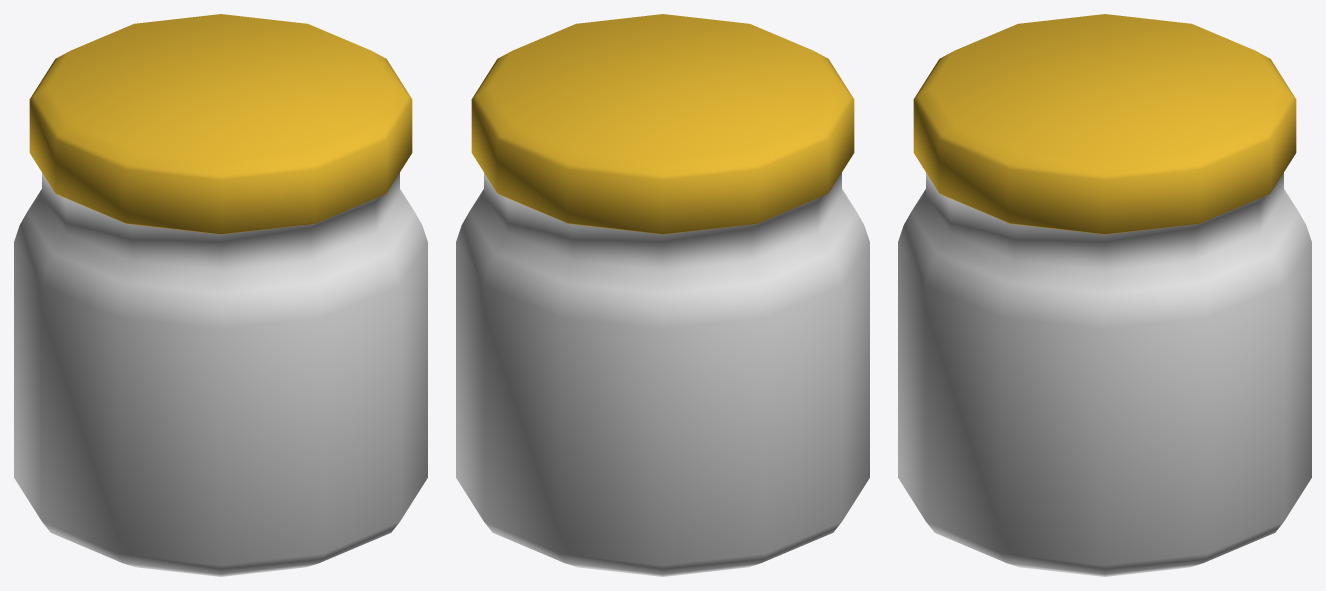
File: BottleFood02.glb
3 renders of one model, left to right at view 1: azimuth 30°, elevation 25°; view 2: azimuth 150°, elevation 25°; view 3: azimuth 270°, elevation 25°, orthographic.
Visible parts, largest first — view 1: Body; view 2: Body; view 3: Body.
Part boxes in pixels (x1=…): Body: x1=14, y1=14, x2=427, y2=576; Body: x1=456, y1=14, x2=869, y2=576; Body: x1=898, y1=14, x2=1311, y2=576.
Bounding box in the file's own units: 0.2441 × 0.2715 × 0.2441.
